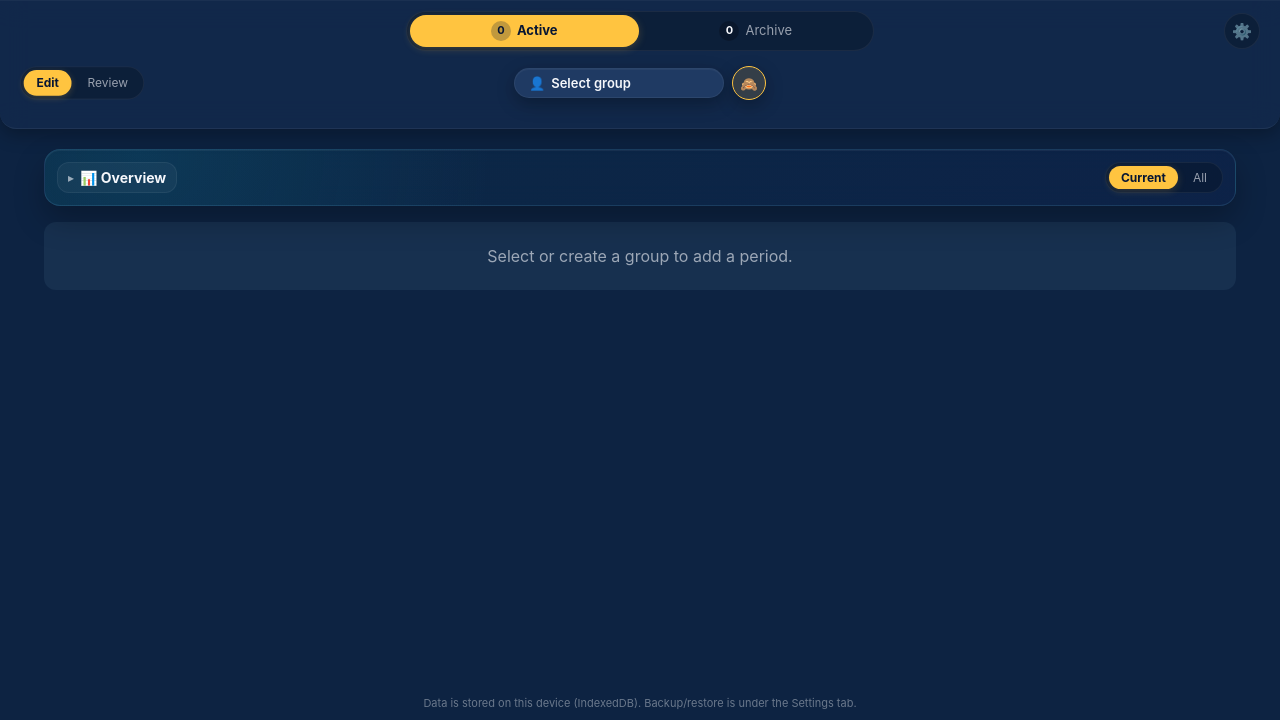
Scenario: Import/Export — JSON backup validation, confirmation, and state refresh › Export/Import JSON share one color, Export Excel/PDF share a different one, and the two pairs don't match each other
expect the button "👤 Select group" is shown: met, box [514,68,724,98]
Step 1. Click the tab named "Settings" → (1242, 31), box [1224,13,1260,49]
(page scrolled)
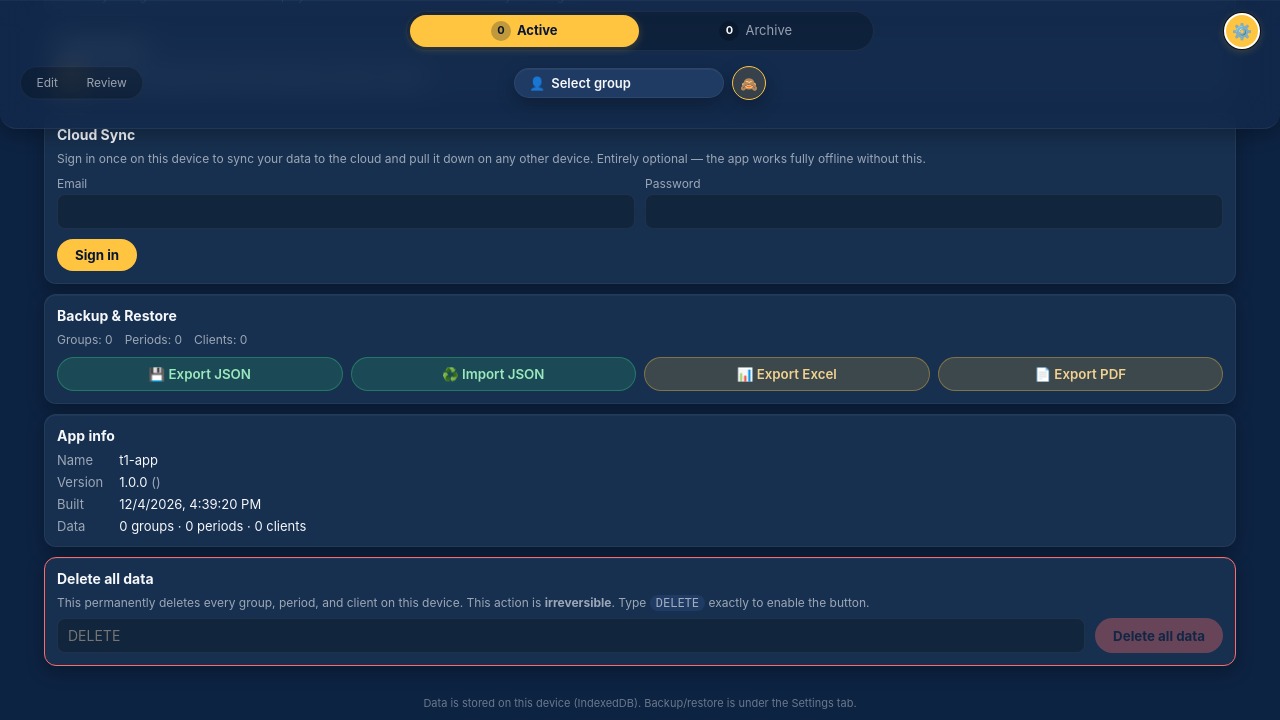
expect the heading "Backup & Restore" is shown: met, box [57,307,177,324]
